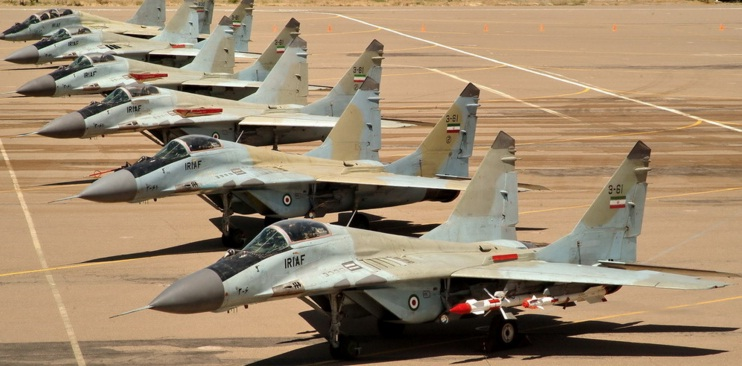Iran: (610, 193, 628, 209), (409, 293, 421, 311), (276, 42, 286, 54), (284, 190, 292, 205), (448, 123, 461, 132), (231, 19, 244, 28), (355, 74, 365, 83), (212, 131, 220, 140), (195, 6, 206, 12)
Mig-29: (157, 126, 689, 341), (93, 90, 470, 239), (51, 57, 319, 146), (18, 44, 220, 89), (12, 3, 155, 33)
